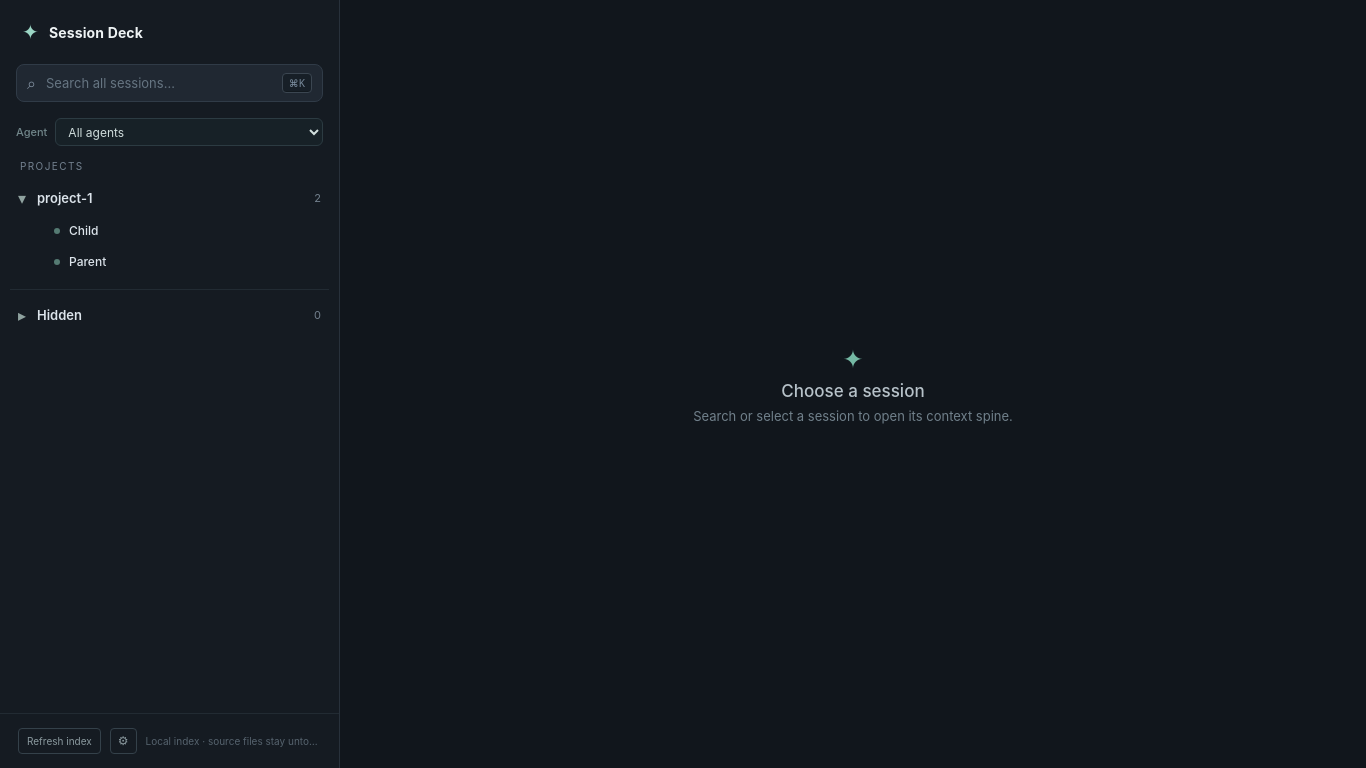
Test: App continuation boundary › reports a missing child only after a successful scan confirms absence
The width and height of the screenshot is (1366, 768).
Click the button with class "session-item" showing "Parent": (88,262) [24,246,329,277]
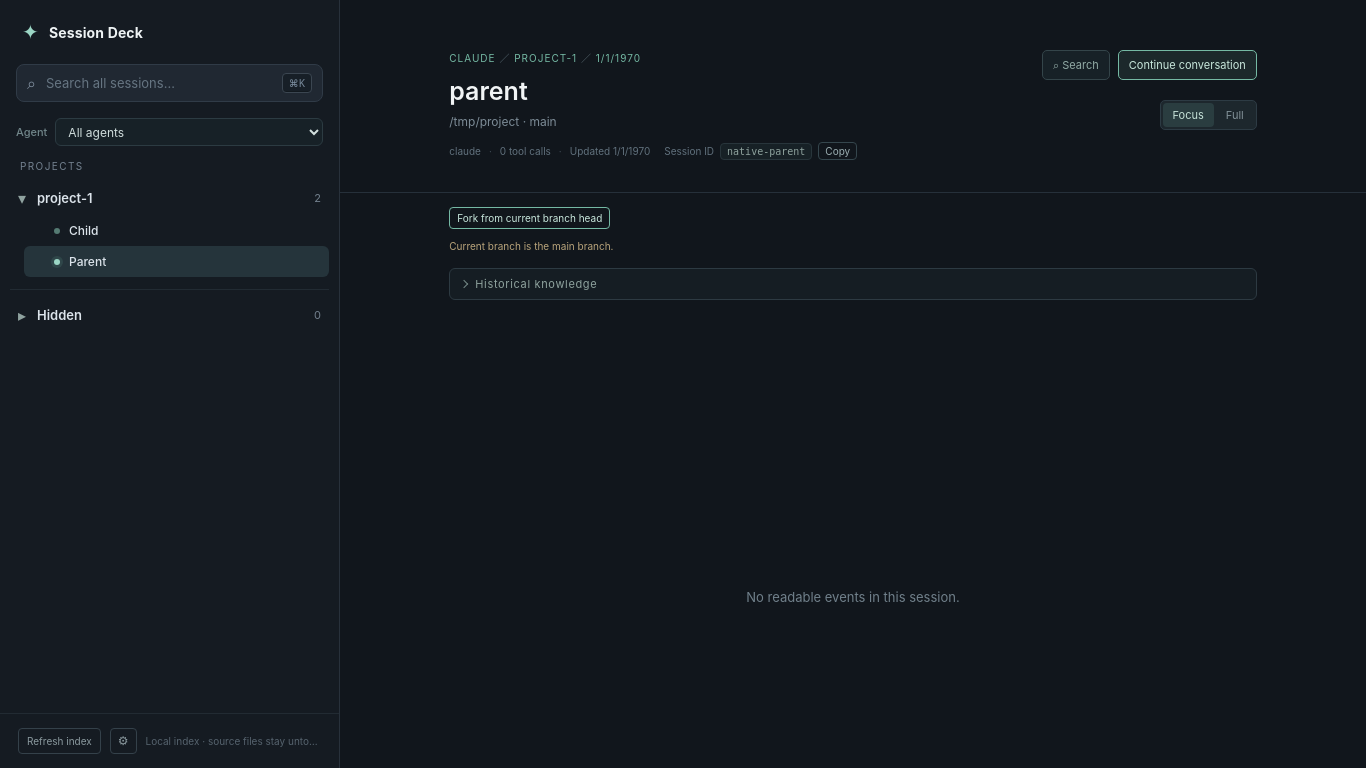
Click the button with class "fork-button": (530,218) [449,207,610,229]
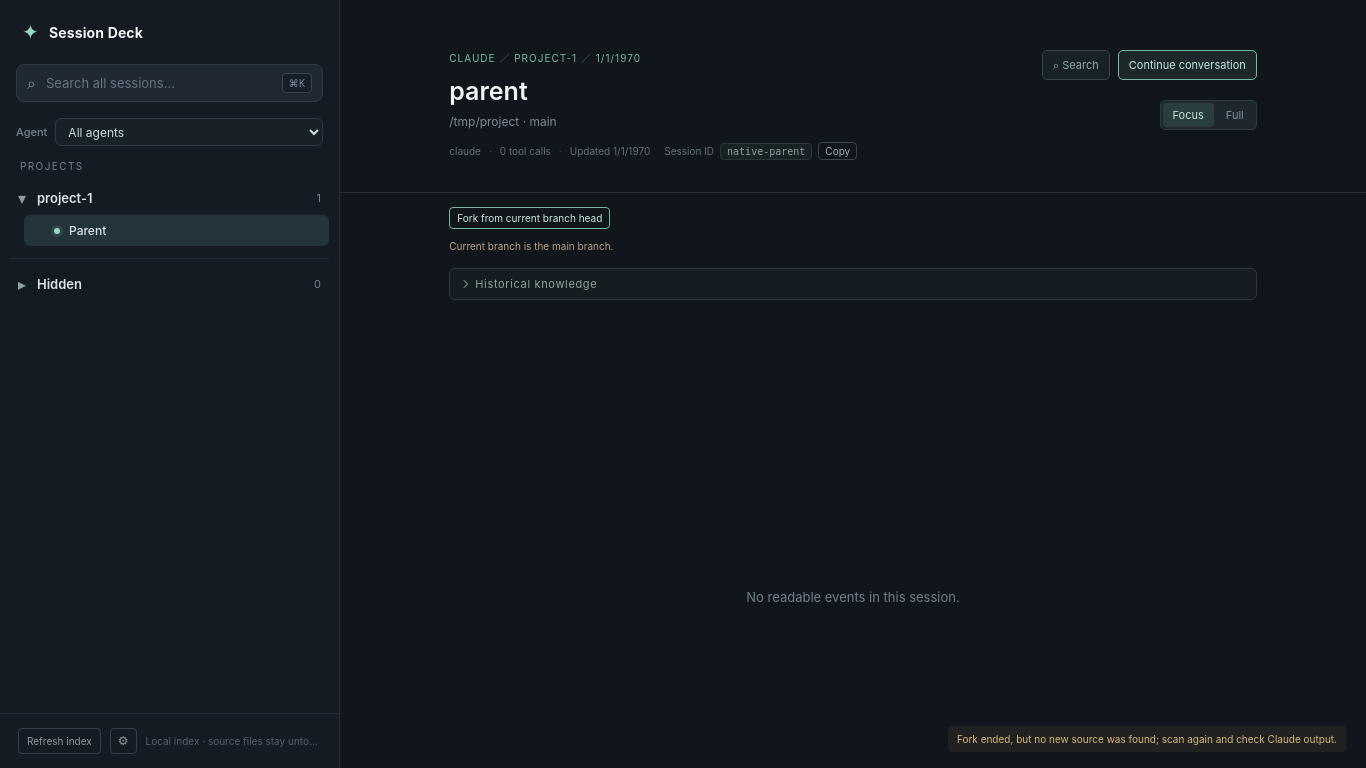
Check: the text "no new source" is shown, box [957,732,1337,744]
